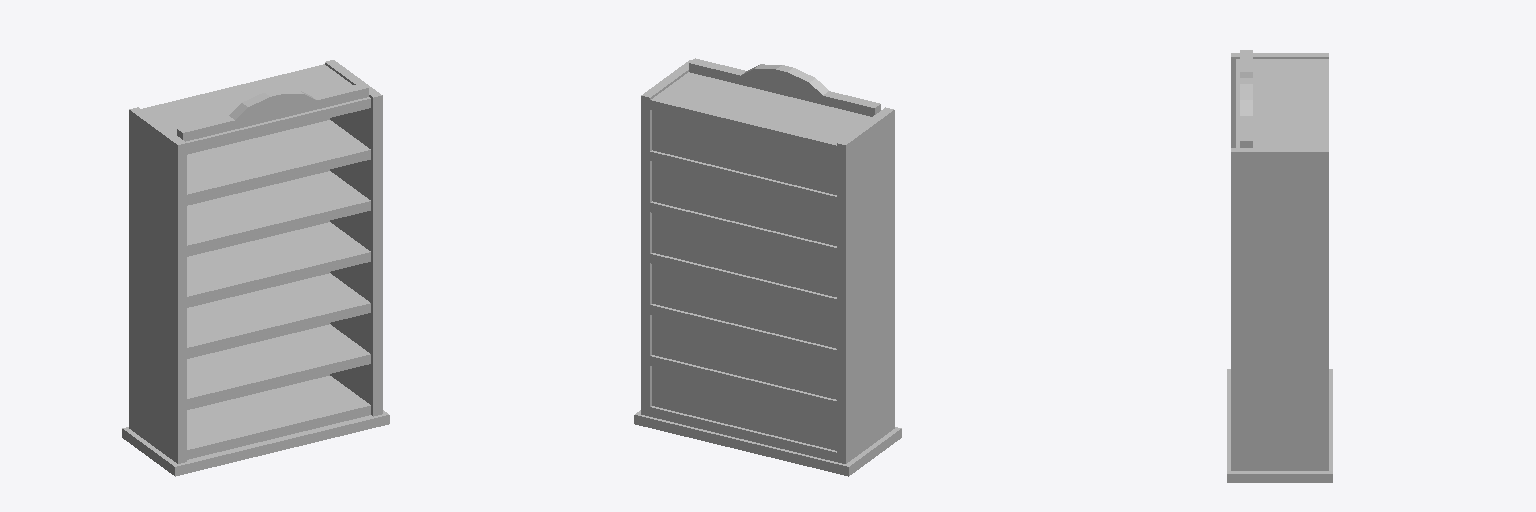
Rendered from Gimmick_Shelf01.obj.
3 renders of one model, left to right at view 1: azimuth 30°, elevation 25°; view 2: azimuth 150°, elevation 25°; view 3: azimuth 270°, elevation 25°, orthographic.
Visible parts, largest first — view 1: Gimmick_Shelf01 Gimmick; view 2: Gimmick_Shelf01 Gimmick; view 3: Gimmick_Shelf01 Gimmick.
Boxes of the visible parts, box(x1,y1,x2,y2) form: Gimmick_Shelf01 Gimmick: box(122, 60, 389, 476); Gimmick_Shelf01 Gimmick: box(634, 58, 901, 476); Gimmick_Shelf01 Gimmick: box(1227, 50, 1332, 482).
Size of the model in its own units: 70.29 by 110 by 29.96.